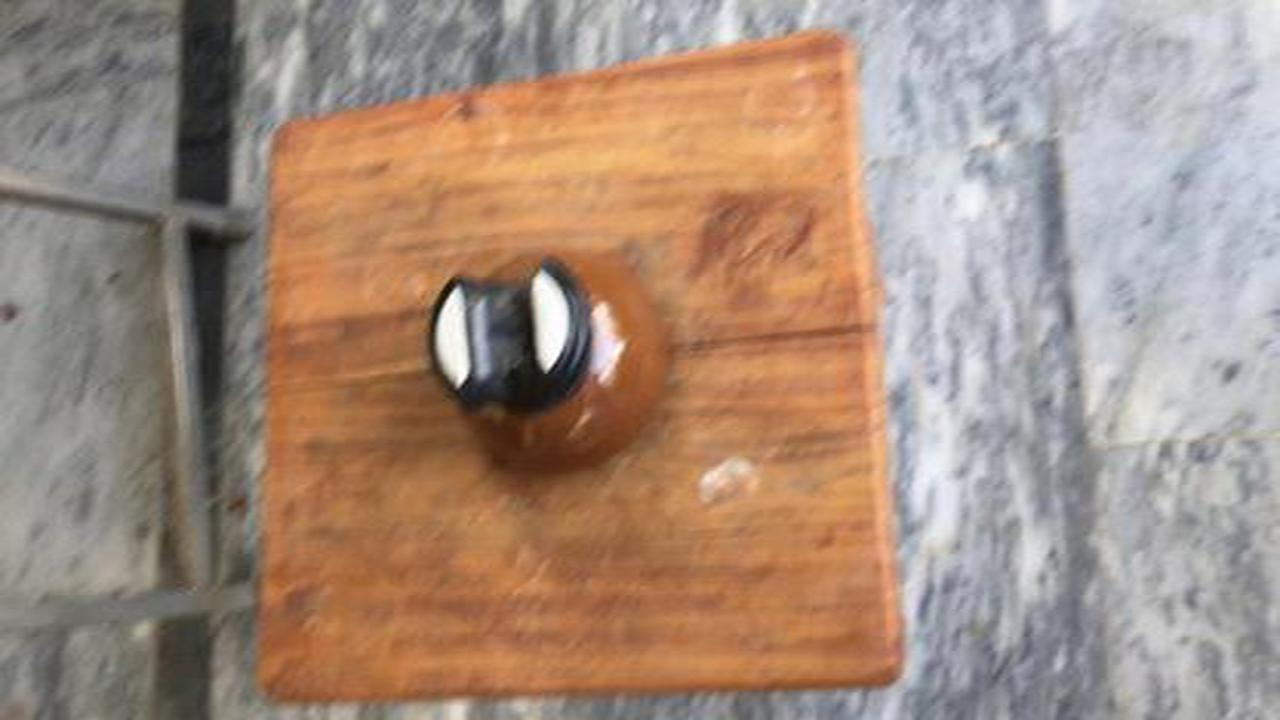insulator_pin: (397, 238, 696, 497)
